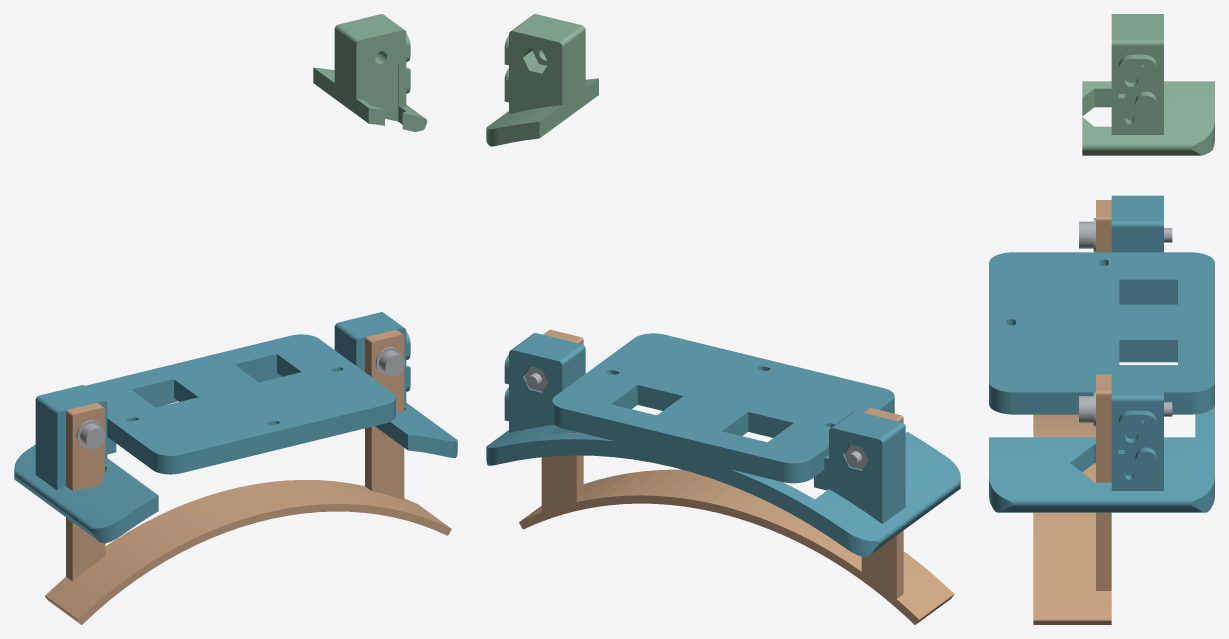
File: R10_ASSIEME_CON_FERRAMENTA_SCHEMATICA.glb
3 views of the same model, side by side, from view 1: azimuth 30°, elevation 25°; view 2: azimuth 150°, elevation 25°; view 3: azimuth 270°, elevation 25° (orthographic). The views are drawn at different scales.
Parts seen in each view (by area): view 1: base_appoggi, ponte_terminale, provino_supporti; view 2: base_appoggi, ponte_terminale, provino_supporti; view 3: base_appoggi, provino_supporti, ponte_terminale, vite_M3x16_1, vite_M3x16_2.
Part boxes in pixels (x1,y1,x2,y2): base_appoggi: (14, 312, 457, 543); ponte_terminale: (45, 329, 451, 624); provino_supporti: (313, 14, 427, 131); base_appoggi: (486, 333, 960, 556); ponte_terminale: (519, 329, 954, 624); provino_supporti: (486, 14, 598, 146); base_appoggi: (989, 195, 1214, 512); provino_supporti: (1082, 14, 1214, 155); ponte_terminale: (1033, 200, 1111, 624); vite_M3x16_1: (1079, 221, 1172, 248); vite_M3x16_2: (1079, 396, 1172, 422).
Size of the model in its own units: 0.105 by 0.13 by 0.046.
